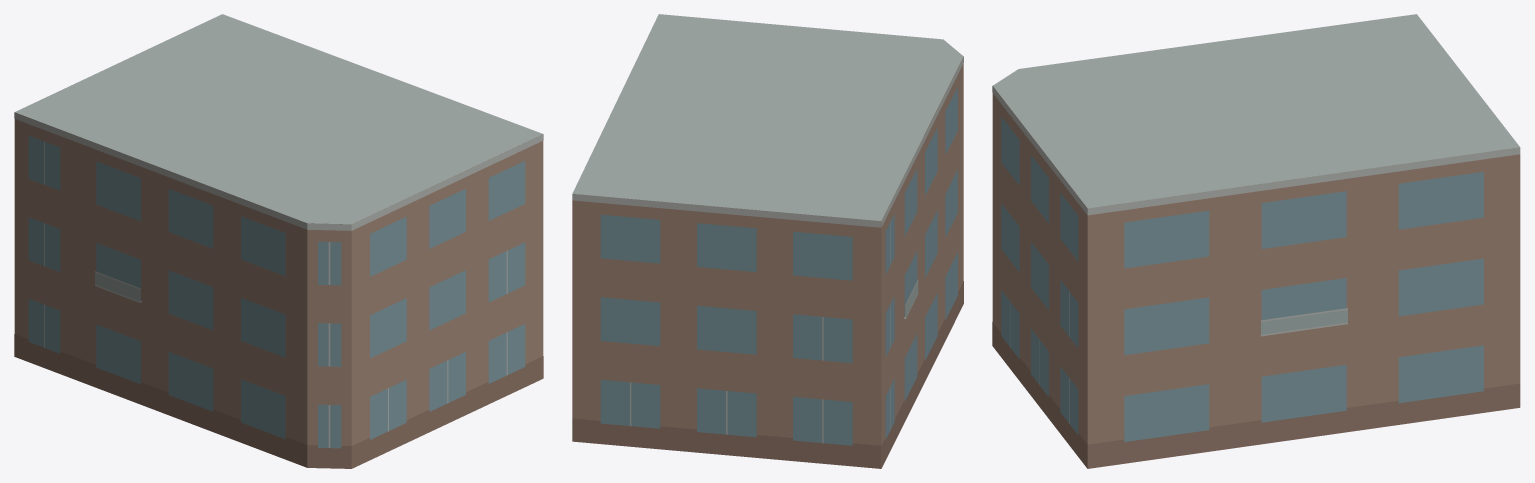
The model's file is survey-upis-32709123.glb.
The picture shows the model from 3 angles, left to right: view 1: azimuth 30°, elevation 25°; view 2: azimuth 150°, elevation 25°; view 3: azimuth 270°, elevation 25°; orthographic projection. The views are drawn at different scales.
Parts seen in each view (by area): view 1: survey-upis-32709123.tmp; view 2: survey-upis-32709123.tmp; view 3: survey-upis-32709123.tmp.
Part boxes in pixels (x1,y1,x2,y2): survey-upis-32709123.tmp: [14, 14, 543, 468]; survey-upis-32709123.tmp: [572, 14, 963, 468]; survey-upis-32709123.tmp: [992, 14, 1520, 468].
Size of the model in its own units: 14.67 by 9.15 by 16.82.
